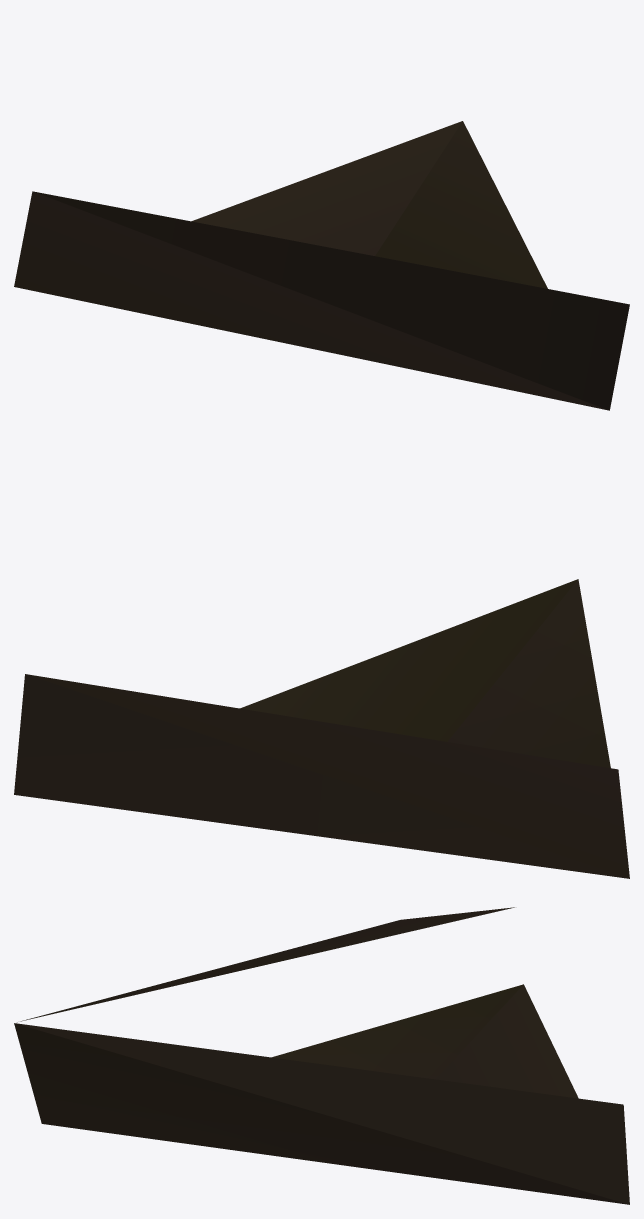
File: cave_gravel_v2.glb
The picture shows the model from 3 angles, top to bottom: view 1: azimuth 30°, elevation 25°; view 2: azimuth 150°, elevation 25°; view 3: azimuth 270°, elevation 25°; orthographic projection. The views are drawn at different scales.
Bounding box in the file's own units: 0.8396 × 0.3538 × 1.
